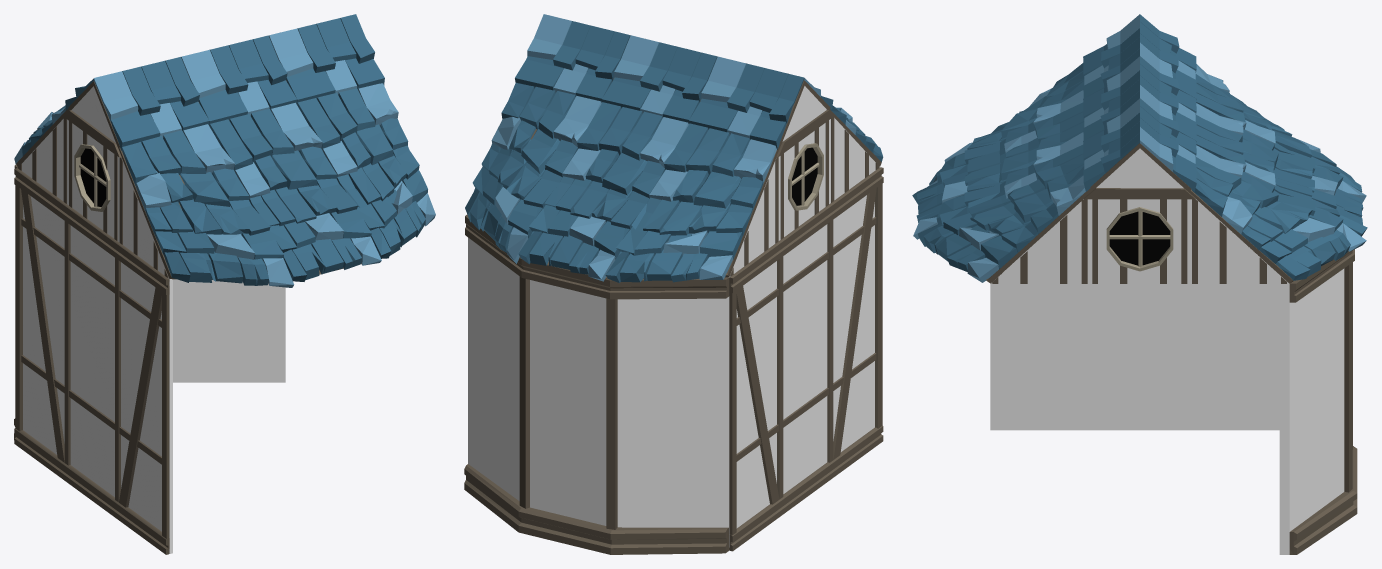
File: House_15_parts.fbx
3 renders of one model, left to right at view 1: azimuth 30°, elevation 25°; view 2: azimuth 150°, elevation 25°; view 3: azimuth 270°, elevation 25°, orthographic.
Parts seen in each view (by area): view 1: ROOF_base_round_2, WALL_02_2, WINDOW_01_Balkon_2, ROOF_base_small_4, ROOF_base_small_6, ROOF_base_small_5, ROOF_Window_round_3, ROOF_trinagle_left_wood_3, ROOF_trinagle_right_wood_3, ROOF_triangles_up_wood_4, ROOF_base_round_3; view 2: WINDOW_01_Balkon_2, ROOF_base_round_3, WALL_02_2, ROOF_base_small_9, ROOF_base_small_8, ROOF_base_small_7, ROOF_Window_round_3, ROOF_trinagle_right_wood_3, ROOF_trinagle_left_wood_3, ROOF_triangles_up_wood_4, ROOF_base_round_2; view 3: WALL_02_2, ROOF_base_round_2, ROOF_base_round_3, WINDOW_01_Balkon_2, ROOF_Window_round_2, ROOF_trinagle_left_wood_2, ROOF_trinagle_right_wood_2, ROOF_base_small_8, ROOF_triangles_up_wood_3, ROOF_base_small_6, ROOF_base_small_7, ROOF_base_small_9 (+2 smaller).
Part boxes in pixels (x1,y1,x2,y2): ROOF_base_round_2: (118,83,435,287); WALL_02_2: (14,168,172,554); WINDOW_01_Balkon_2: (14,164,285,439); ROOF_base_small_4: (93,57,209,150); ROOF_base_small_6: (269,14,384,105); ROOF_base_small_5: (181,35,297,126); ROOF_Window_round_3: (68,120,118,241); ROOF_trinagle_left_wood_3: (18,117,68,204); ROOF_trinagle_right_wood_3: (119,157,169,278); ROOF_triangles_up_wood_4: (63,86,121,157); ROOF_base_round_3: (14,105,67,167); WINDOW_01_Balkon_2: (464,214,729,554); ROOF_base_round_3: (465,82,779,282); WALL_02_2: (729,167,883,551); ROOF_base_small_9: (689,56,804,149); ROOF_base_small_8: (515,14,629,102); ROOF_base_small_7: (602,35,716,123); ROOF_Window_round_3: (779,120,829,239); ROOF_trinagle_right_wood_3: (829,117,879,203); ROOF_trinagle_left_wood_3: (729,156,779,277); ROOF_triangles_up_wood_4: (776,86,834,156); ROOF_base_round_2: (830,105,883,166); WALL_02_2: (990,283,1279,430); ROOF_base_round_2: (912,63,1089,283); ROOF_base_round_3: (1189,64,1367,283); WINDOW_01_Balkon_2: (1279,249,1357,554); ROOF_Window_round_2: (1090,199,1189,283); ROOF_trinagle_left_wood_2: (991,199,1089,283); ROOF_trinagle_right_wood_2: (1190,199,1288,283); ROOF_base_small_8: (1140,99,1196,192); ROOF_triangles_up_wood_3: (1084,148,1195,199); ROOF_base_small_6: (1083,98,1139,192); ROOF_base_small_7: (1140,56,1196,141); ROOF_base_small_9: (1140,14,1196,99).
Bounding box in the file's own units: 307 × 459 × 457.
